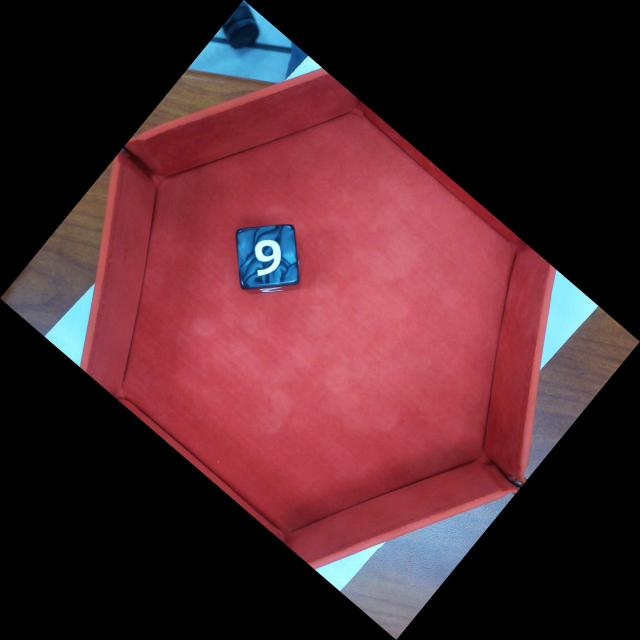dice: (240, 229, 298, 287)
